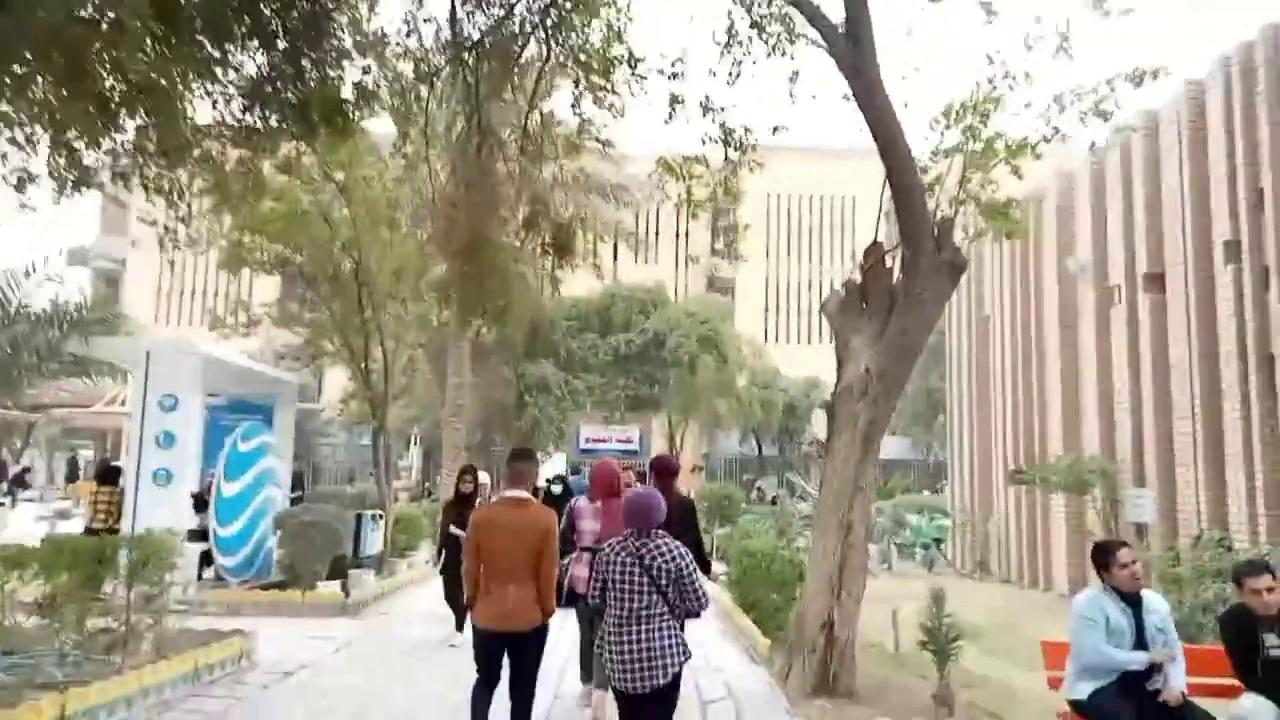person: (586, 485, 710, 719), (1057, 538, 1216, 719), (460, 446, 560, 719), (1217, 556, 1279, 713), (435, 463, 481, 647), (647, 454, 712, 577), (81, 457, 123, 536), (4, 465, 32, 507), (64, 447, 80, 490)
tree: (2, 0, 652, 561), (688, 0, 1170, 698), (367, 0, 645, 504), (207, 117, 439, 568), (0, 0, 386, 256), (521, 278, 751, 466), (0, 265, 135, 470), (627, 288, 743, 459), (1008, 449, 1122, 597), (1154, 525, 1272, 644), (731, 348, 784, 476), (915, 585, 964, 717), (777, 371, 826, 465), (693, 477, 747, 559)
